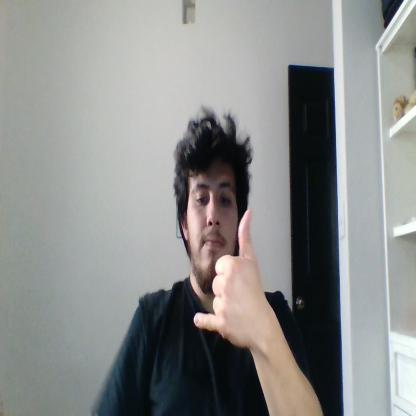Y: (192, 207, 262, 346)
